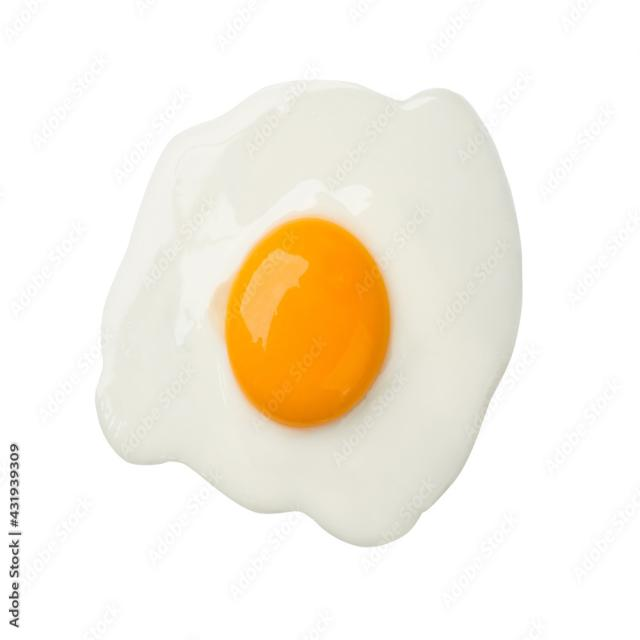Egg: (96, 81, 521, 546)
